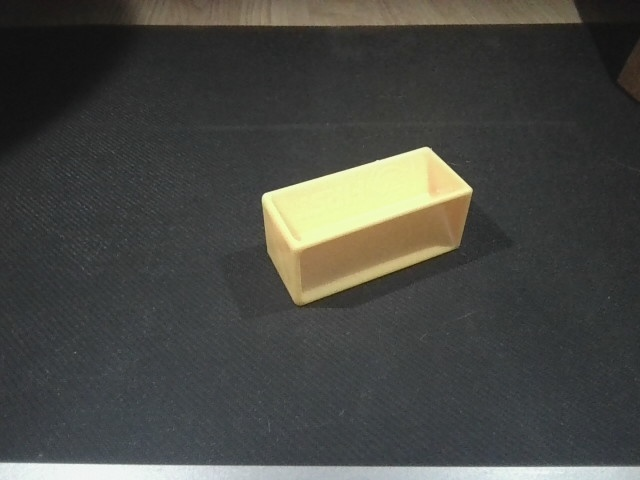YellowSample: (257, 144, 476, 307)
